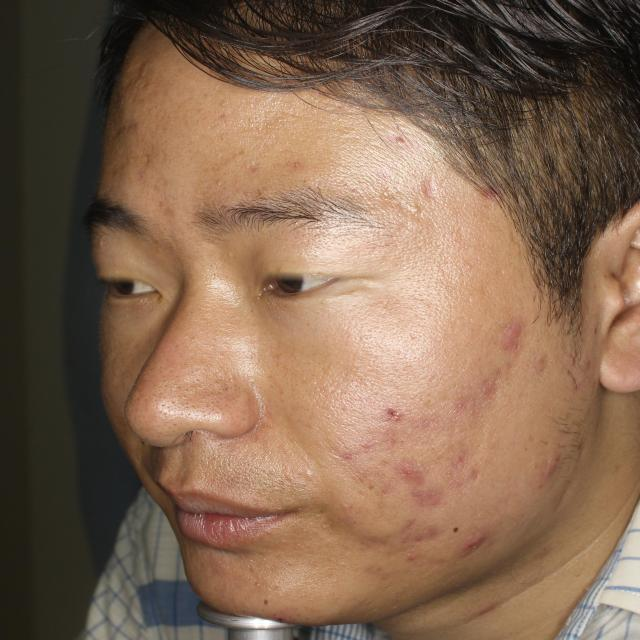acne: (479, 366, 505, 400), (384, 397, 414, 425), (388, 458, 423, 482), (541, 452, 569, 482), (407, 485, 438, 512), (465, 522, 489, 553), (505, 341, 530, 370), (398, 544, 418, 573), (450, 388, 472, 413), (393, 521, 416, 544), (508, 320, 527, 342), (451, 445, 465, 471), (346, 442, 354, 467), (423, 519, 432, 535)
